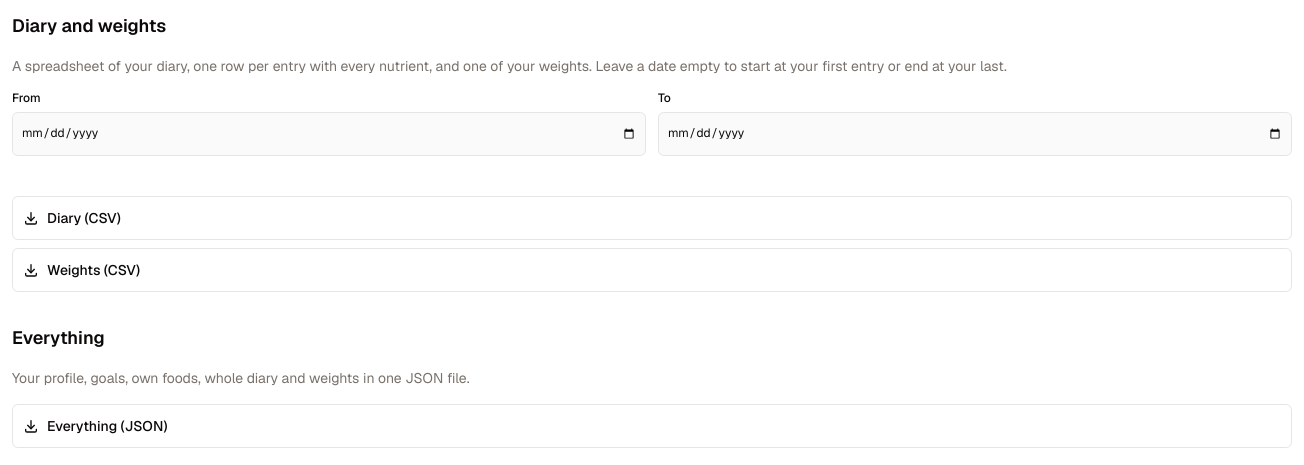
Test: ExportSettings › refuses a range that ends before it starts
Type "2026-10-20" into the date field labelled "From" at (329, 134), box x1=12 y1=112 x2=646 y2=156
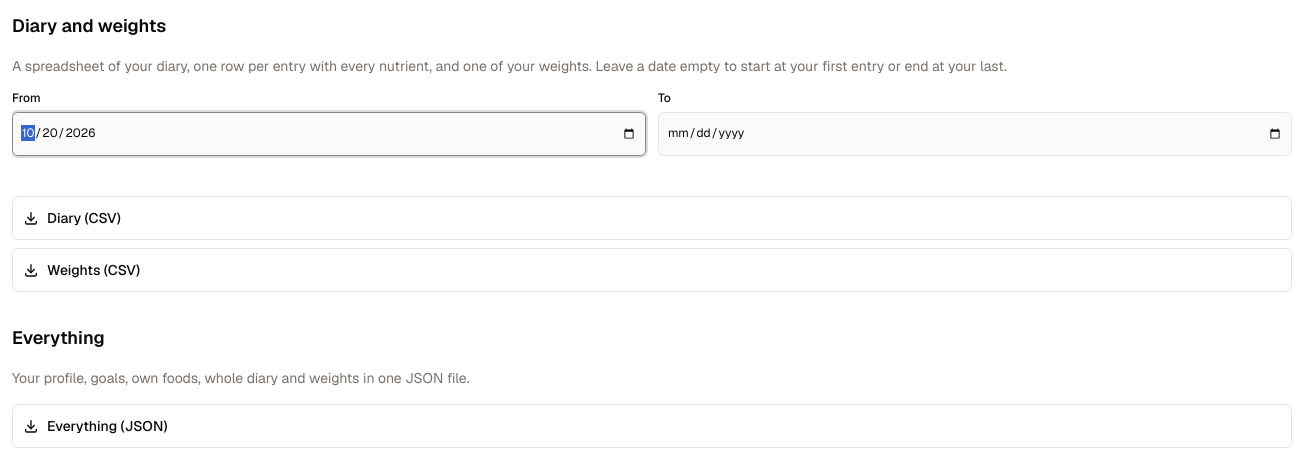
Type "2026-10-01" into the date field labelled "To" at (975, 134), box x1=658 y1=112 x2=1292 y2=156
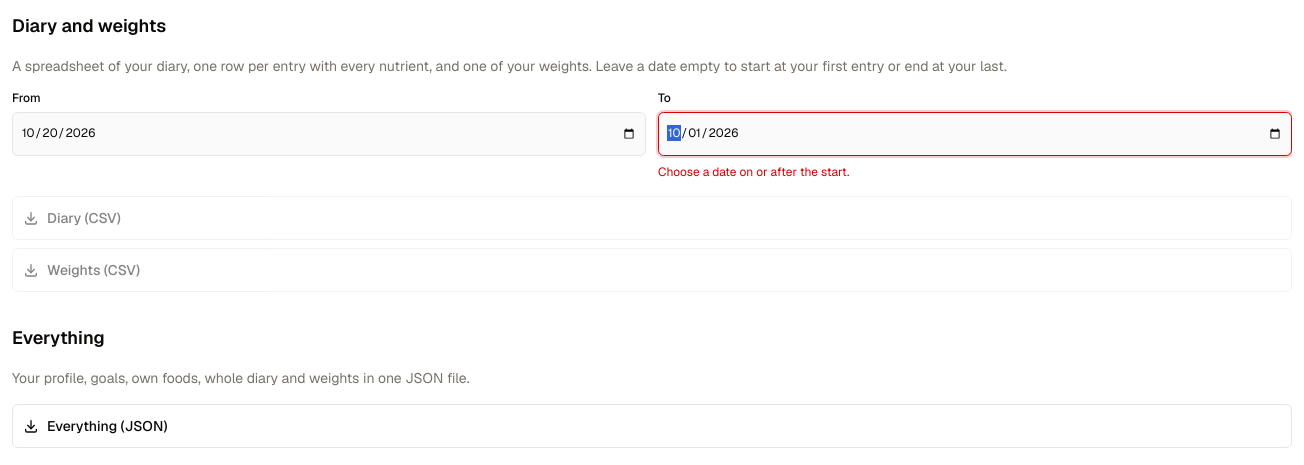
Check: the button "Diary (CSV)" is disabled, box x1=12 y1=196 x2=1292 y2=240
Check: the text "Choose a date on or after the start." is shown, box x1=658 y1=164 x2=849 y2=180
